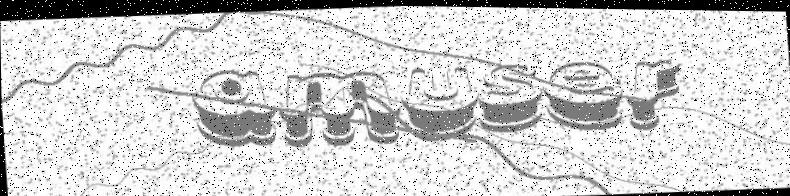a: (189, 66, 279, 150)
e: (539, 57, 626, 132)
m: (276, 66, 402, 150)
r: (620, 54, 683, 130)
s: (476, 59, 544, 134)
u: (399, 62, 481, 142)
